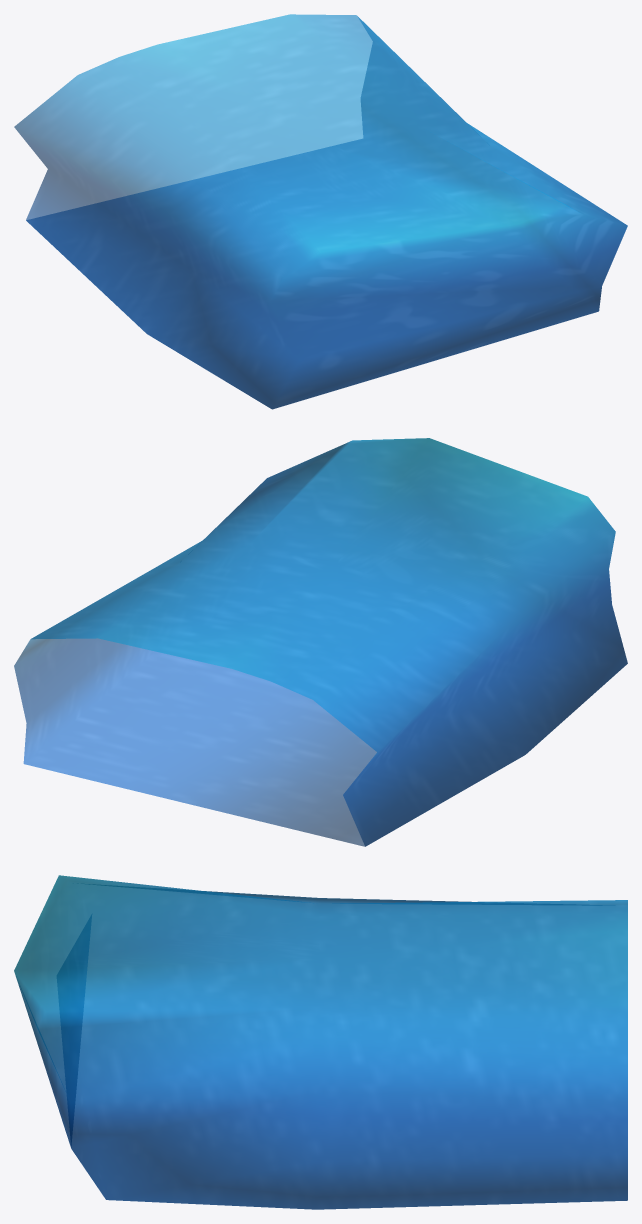
File: freeze_end.fbx
3 renders of one model, top to bottom at view 1: azimuth 30°, elevation 25°; view 2: azimuth 150°, elevation 25°; view 3: azimuth 270°, elevation 25°, orthographic. The views are drawn at different scales.
Visible parts, largest first — view 1: Cube.020; view 2: Cube.020; view 3: Cube.020.
Part boxes in pixels (<box>): Cube.020: <box>14,14,627,409</box>; Cube.020: <box>14,438,627,846</box>; Cube.020: <box>14,875,627,1209</box>.
Size of the model in its own units: 85.43 by 34.01 by 111.
